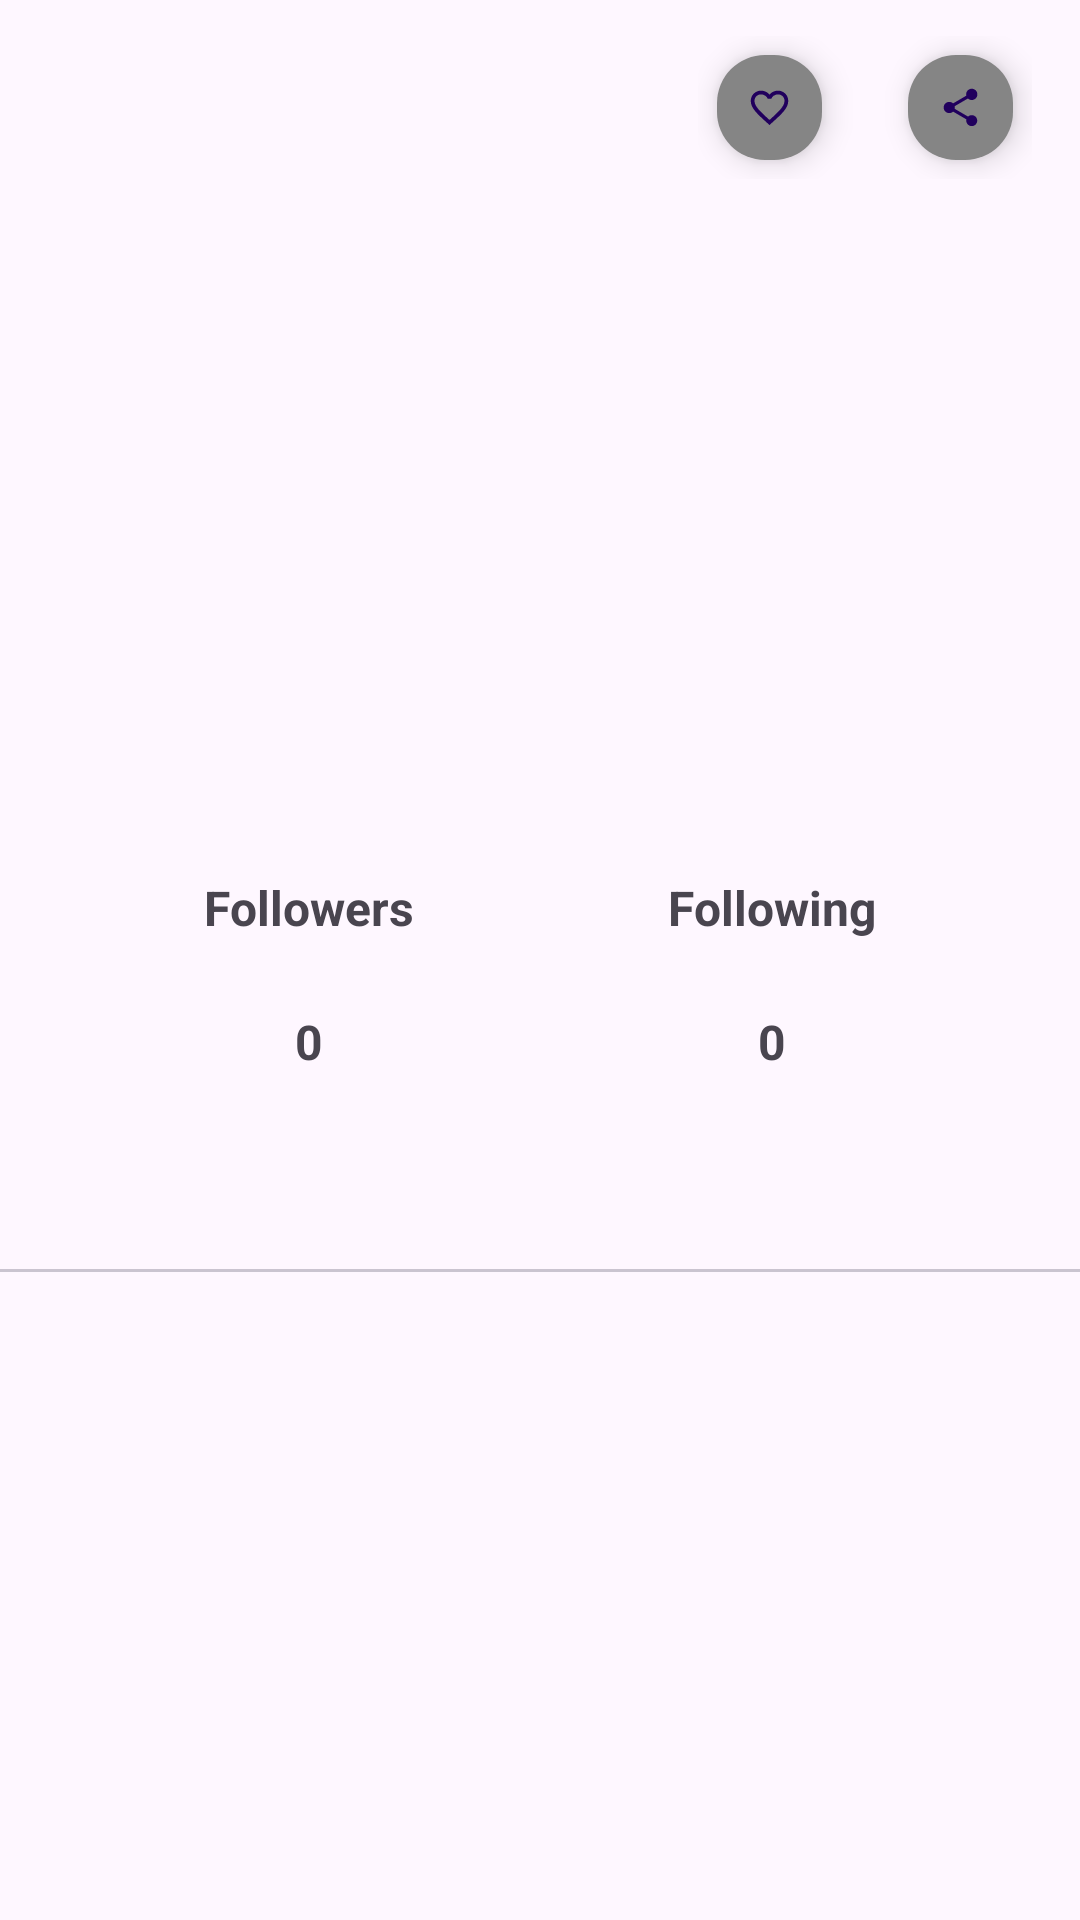

Icons on this 1080 × 1920 Android screen, each with the point to tap as point (x, y):
favorite list: point (770, 108)
share: point (962, 108)
